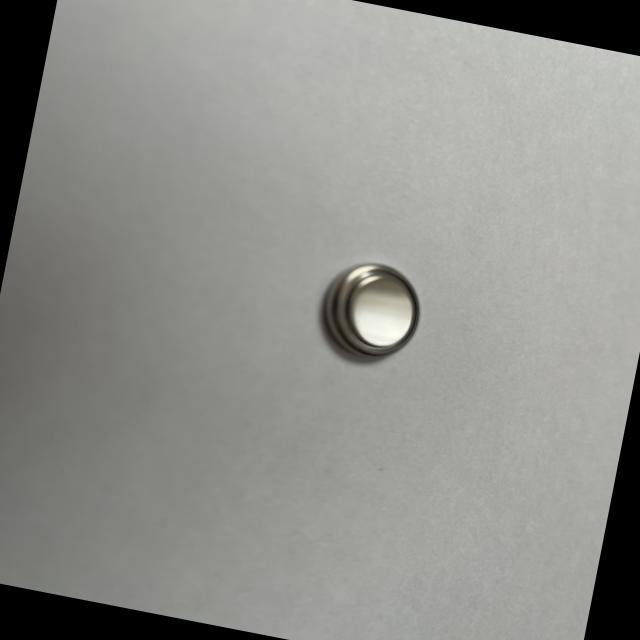COIN: (309, 250, 432, 372)
